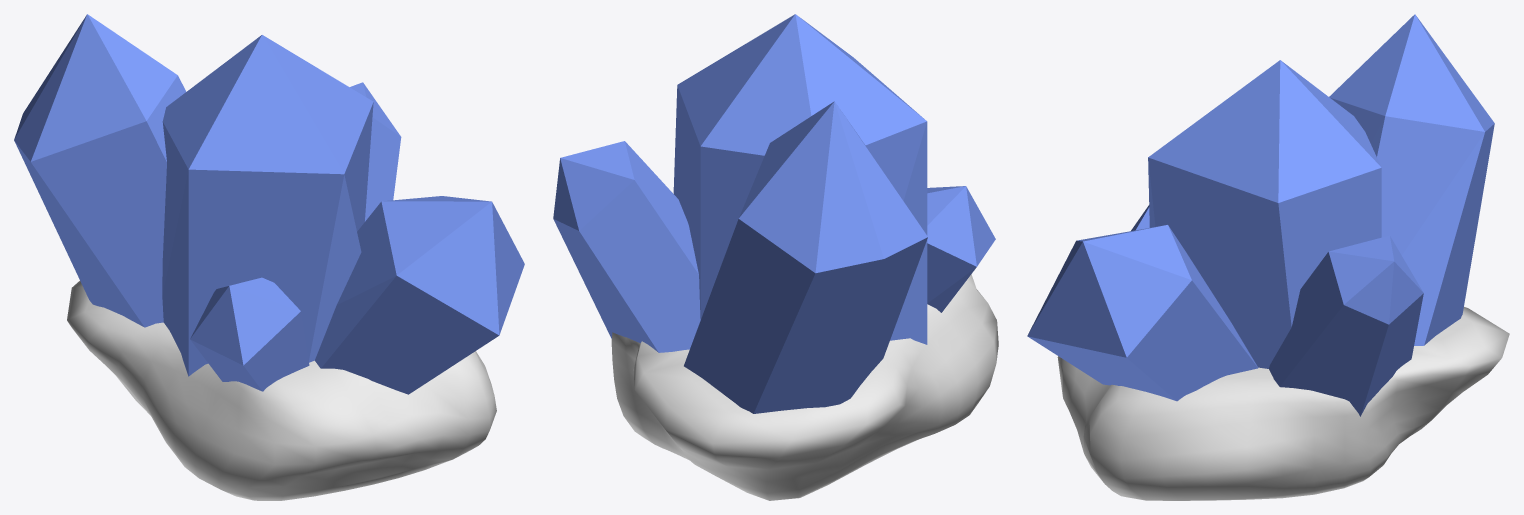
The model's file is GemRock.fbx.
3 views of the same model, side by side, from view 1: azimuth 30°, elevation 25°; view 2: azimuth 150°, elevation 25°; view 3: azimuth 270°, elevation 25° (orthographic). The views are drawn at different scales.
Parts seen in each view (by area): view 1: Cylinder.002, Cube; view 2: Cylinder.002, Cube; view 3: Cylinder.002, Cube.
Part boxes in pixels (x1,y1,x2,y2): Cylinder.002: (14, 14, 524, 394); Cube: (67, 281, 496, 500); Cylinder.002: (553, 14, 995, 413); Cube: (611, 274, 998, 500); Cylinder.002: (1027, 14, 1494, 416); Cube: (1057, 307, 1509, 500).
Bounding box in the file's own units: 164 × 172 × 196.
